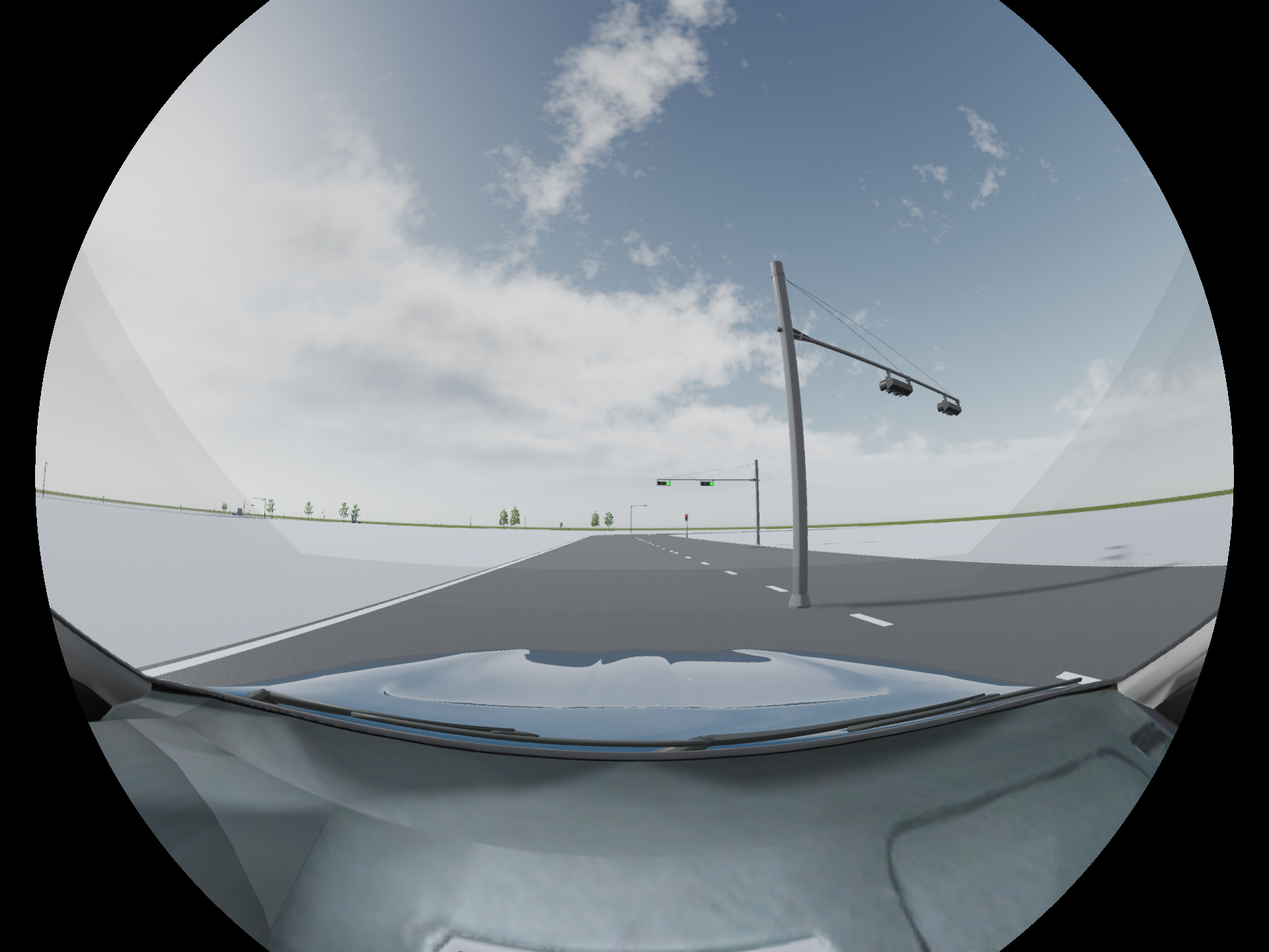Green Light: (656, 480, 673, 488), (700, 480, 716, 487)
Red Light: (684, 513, 689, 522)
